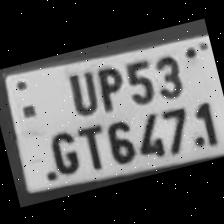1: (182, 94, 222, 148)
3: (146, 45, 186, 99)
4: (129, 104, 167, 160)
5: (116, 52, 159, 106)
6: (98, 111, 138, 168)
7: (154, 100, 192, 153)
G: (42, 124, 82, 177)
P: (87, 57, 128, 114)
T: (72, 118, 110, 172)
U: (58, 64, 100, 118)
